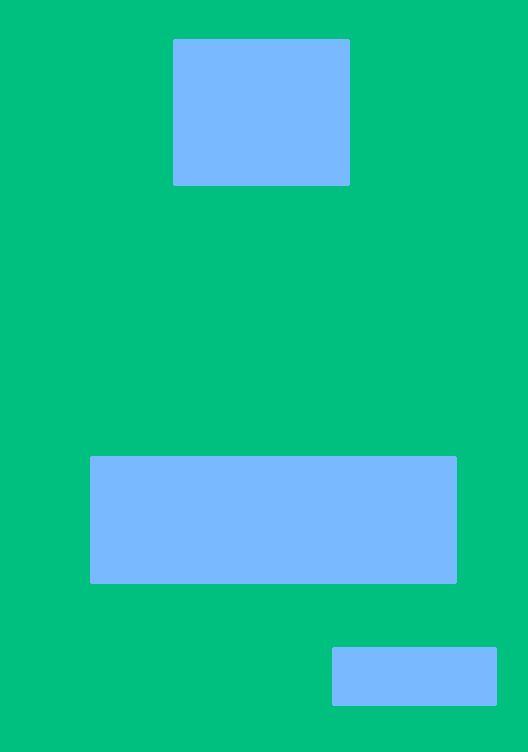Text_area: (91, 457, 455, 582), (174, 40, 348, 184), (333, 648, 495, 704)
